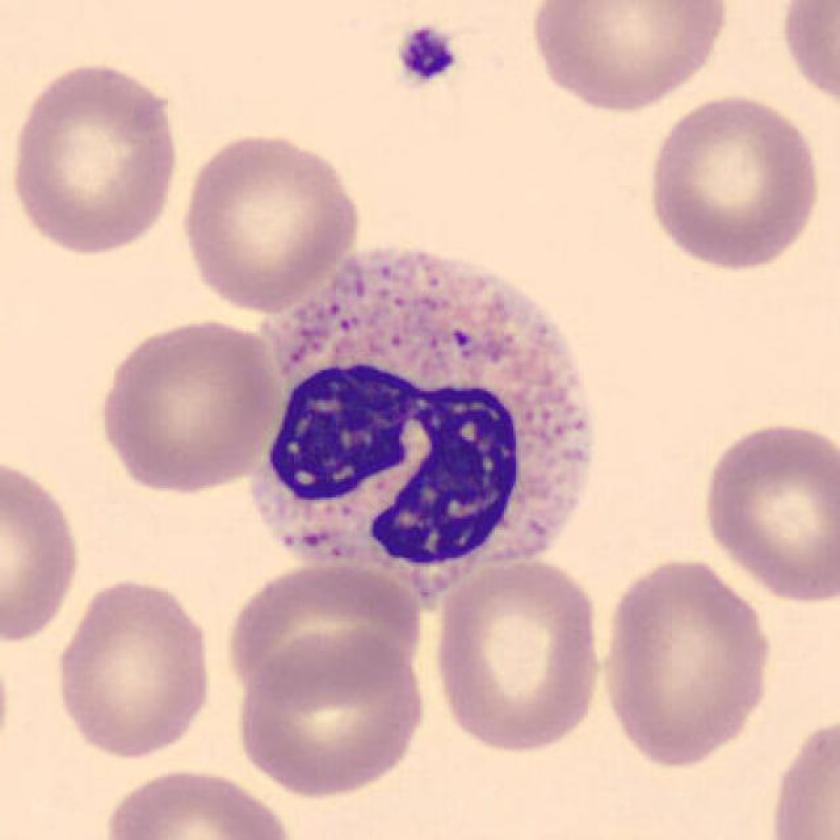neutrophil: (250, 252, 593, 602)
